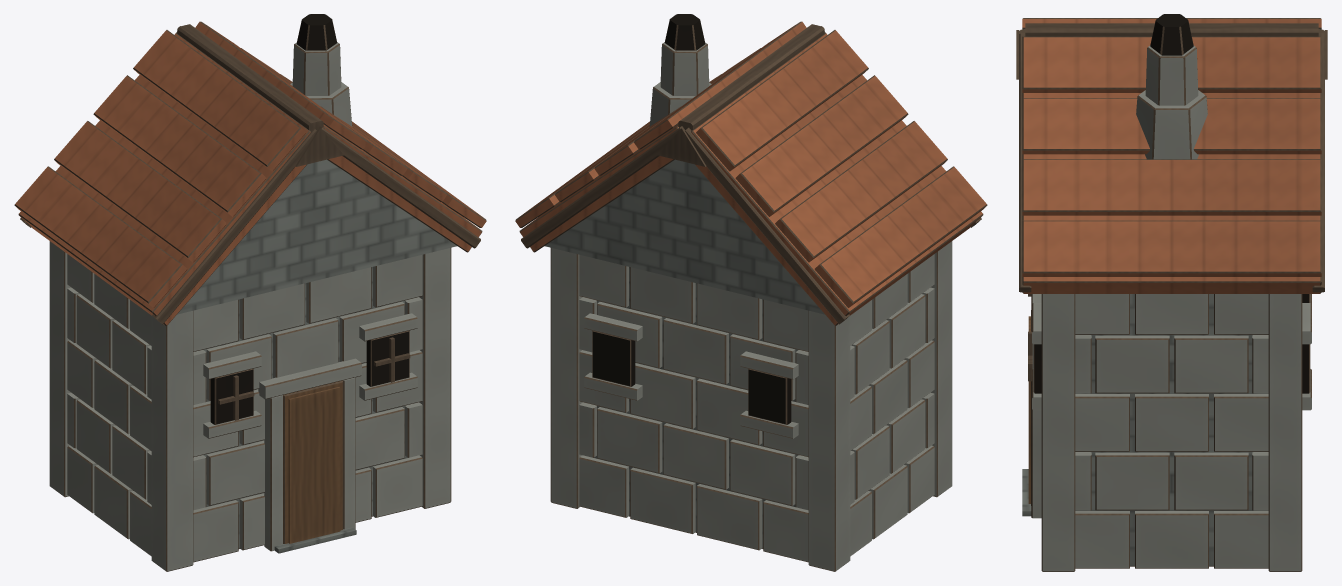
The model's file is stone-cottage.glb.
3 views of the same model, side by side, from view 1: azimuth 30°, elevation 25°; view 2: azimuth 150°, elevation 25°; view 3: azimuth 270°, elevation 25° (orthographic). The views are drawn at different scales.
Visible parts, largest first — view 1: stone-cottage; view 2: stone-cottage; view 3: stone-cottage.
Boxes of the visible parts, box(x1,y1,x2,y2) form: stone-cottage: box(14, 14, 486, 571); stone-cottage: box(515, 14, 987, 571); stone-cottage: box(1016, 14, 1327, 571).
Bounding box in the file's own units: 0.7396 × 0.96 × 0.53.
1 material, 1 textured.
